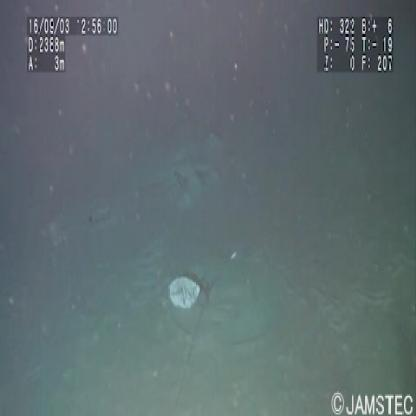Rác: (165, 268, 209, 316)
